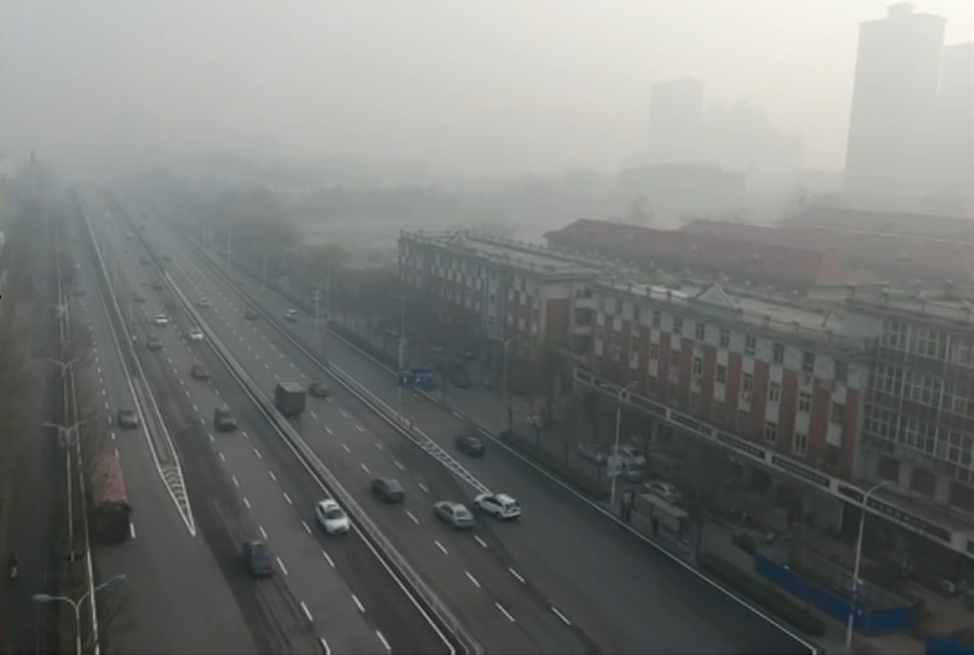bus: (87, 451, 134, 546), (271, 381, 306, 417)
car: (472, 491, 523, 520), (314, 498, 350, 537), (432, 499, 475, 531), (240, 537, 273, 578), (370, 475, 406, 505), (643, 479, 685, 504), (612, 443, 648, 468), (577, 440, 609, 465), (613, 455, 645, 480), (454, 433, 486, 458), (213, 404, 237, 430), (190, 361, 209, 378), (309, 380, 329, 396), (146, 333, 163, 350), (185, 328, 204, 342), (117, 405, 129, 423), (284, 308, 298, 321), (244, 308, 256, 321), (196, 297, 208, 308), (158, 316, 168, 326)
